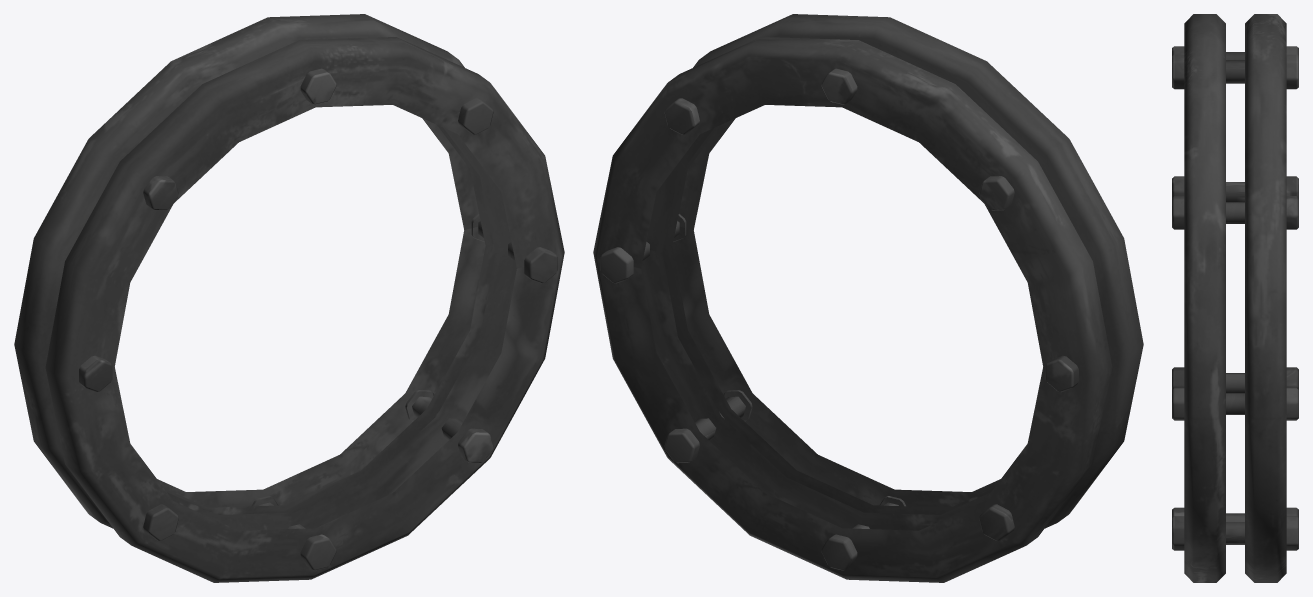
The model's file is pipeconnector_001.fbx.
The picture shows the model from 3 angles, left to right: view 1: azimuth 30°, elevation 25°; view 2: azimuth 150°, elevation 25°; view 3: azimuth 270°, elevation 25°; orthographic projection. The views are drawn at different scales.
Parts seen in each view (by area): view 1: pipeconnector_001; view 2: pipeconnector_001; view 3: pipeconnector_001.
Part boxes in pixels (bbox=[...]): pipeconnector_001: bbox=[14, 14, 564, 582]; pipeconnector_001: bbox=[593, 14, 1143, 582]; pipeconnector_001: bbox=[1172, 14, 1298, 582].
Size of the model in its own units: 1112 by 248 by 1112.
